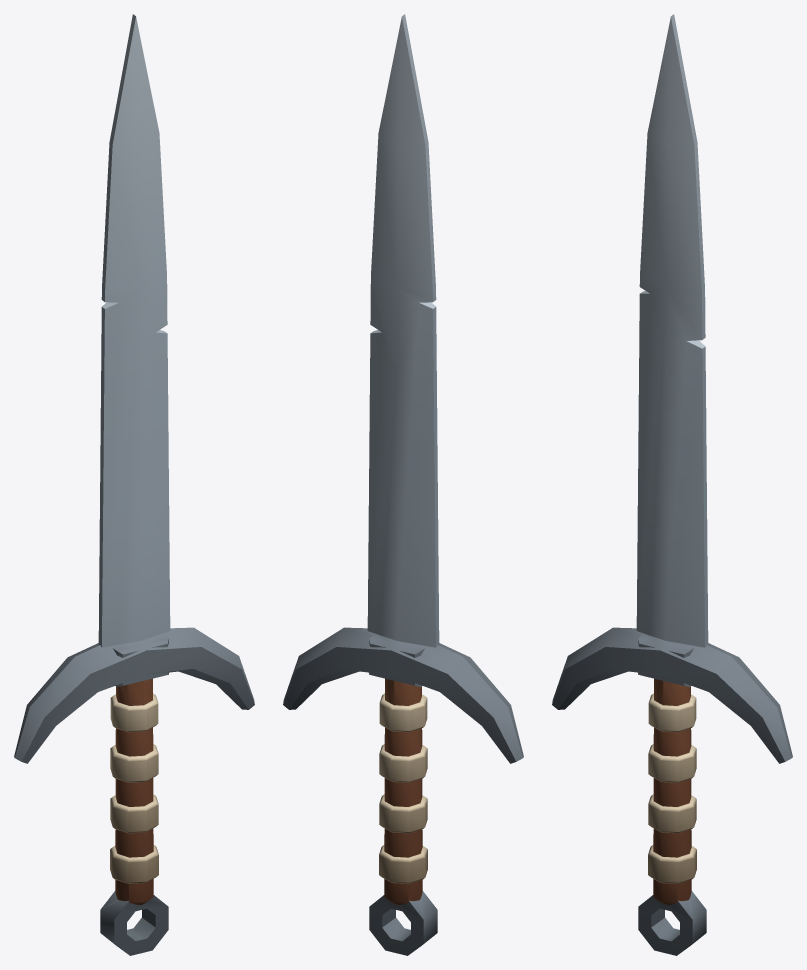
The model's file is longblade_crescent.glb.
3 views of the same model, side by side, from view 1: azimuth 30°, elevation 25°; view 2: azimuth 150°, elevation 25°; view 3: azimuth 330°, elevation 25° (orthographic).
Visible parts, largest first — view 1: Item; view 2: Item; view 3: Item.
Part boxes in pixels (x1,y1,x2,y2): Item: (14, 14, 254, 955); Item: (283, 14, 523, 955); Item: (552, 14, 792, 955).
Bounding box in the file's own units: 0.6951 × 2.59 × 0.1274.
2 materials, 2 textured.
